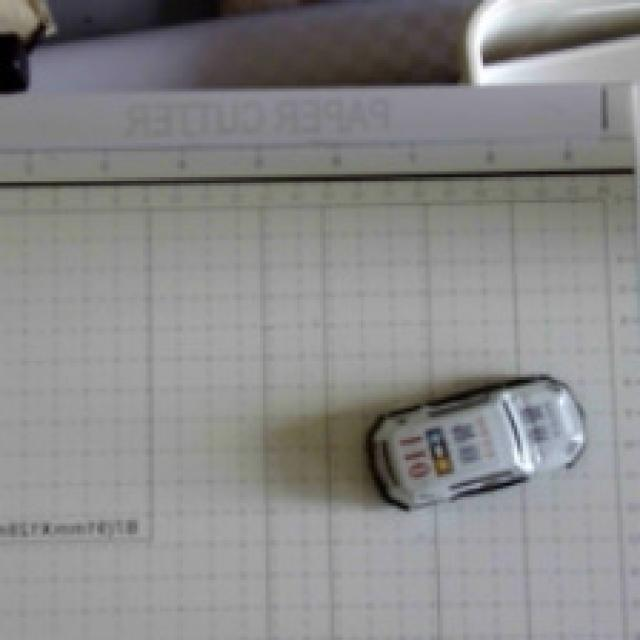Grey Car: (347, 326, 599, 544)
